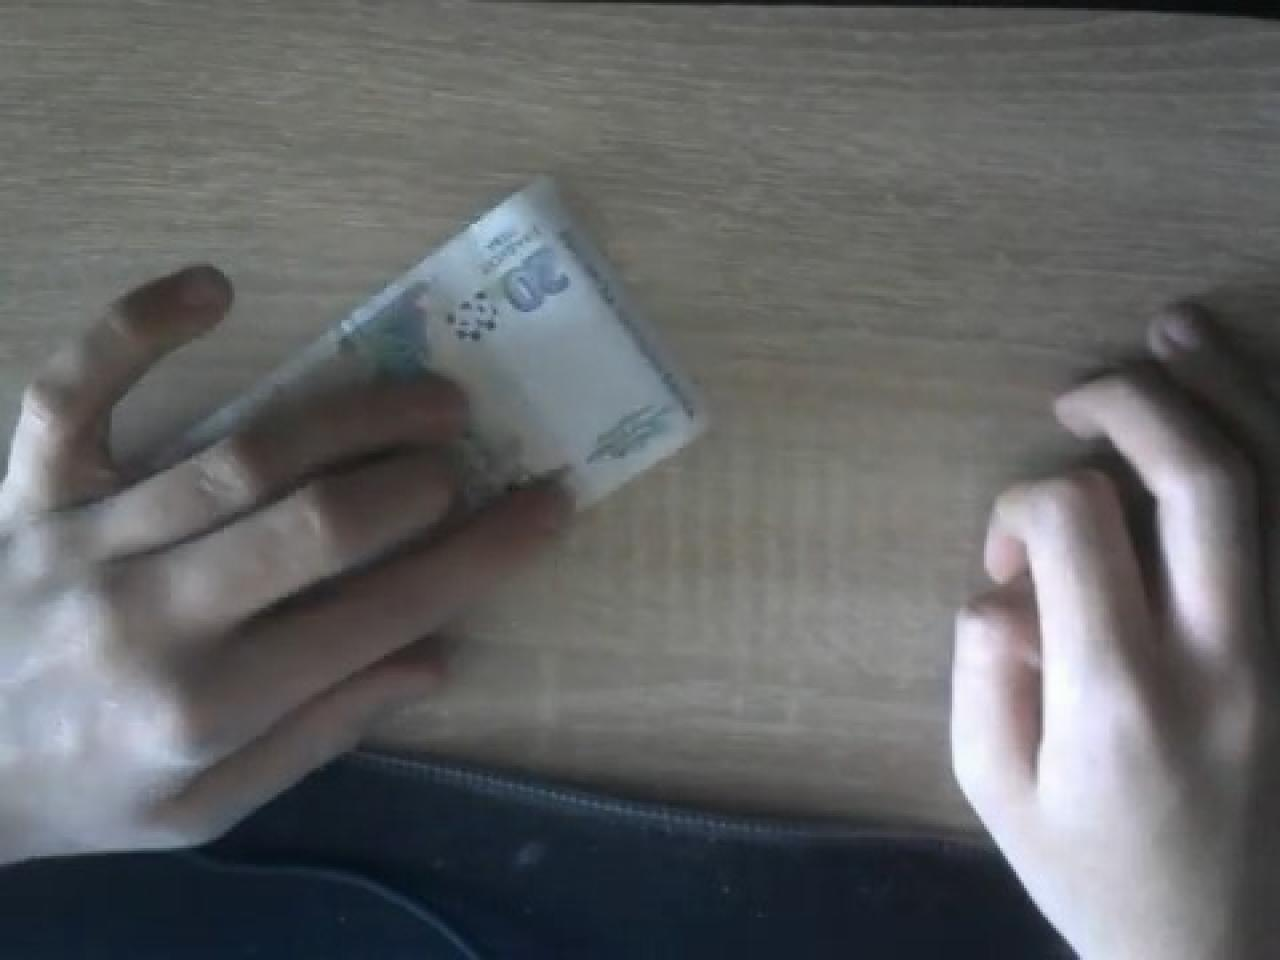20leva: (160, 170, 712, 506)
